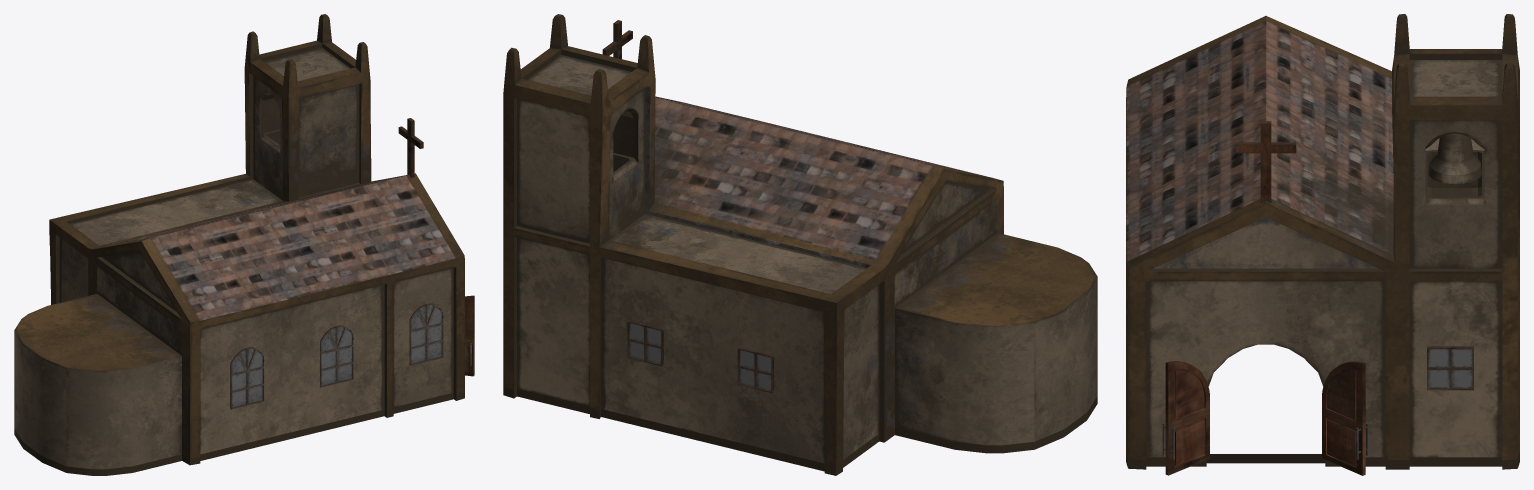
File: Capela Externa .fbx
3 renders of one model, left to right at view 1: azimuth 30°, elevation 25°; view 2: azimuth 150°, elevation 25°; view 3: azimuth 270°, elevation 25°, orthographic. The views are drawn at different scales.
Visible parts, largest first — view 1: Cube.007; view 2: Cube.007; view 3: Cube.007.
Part boxes in pixels (box(x1,y1,x2,y2)): Cube.007: box(14, 14, 474, 475); Cube.007: box(503, 14, 1097, 475); Cube.007: box(1126, 14, 1519, 475).
Bounding box in the file's own units: 2467 × 1642 × 1462.
